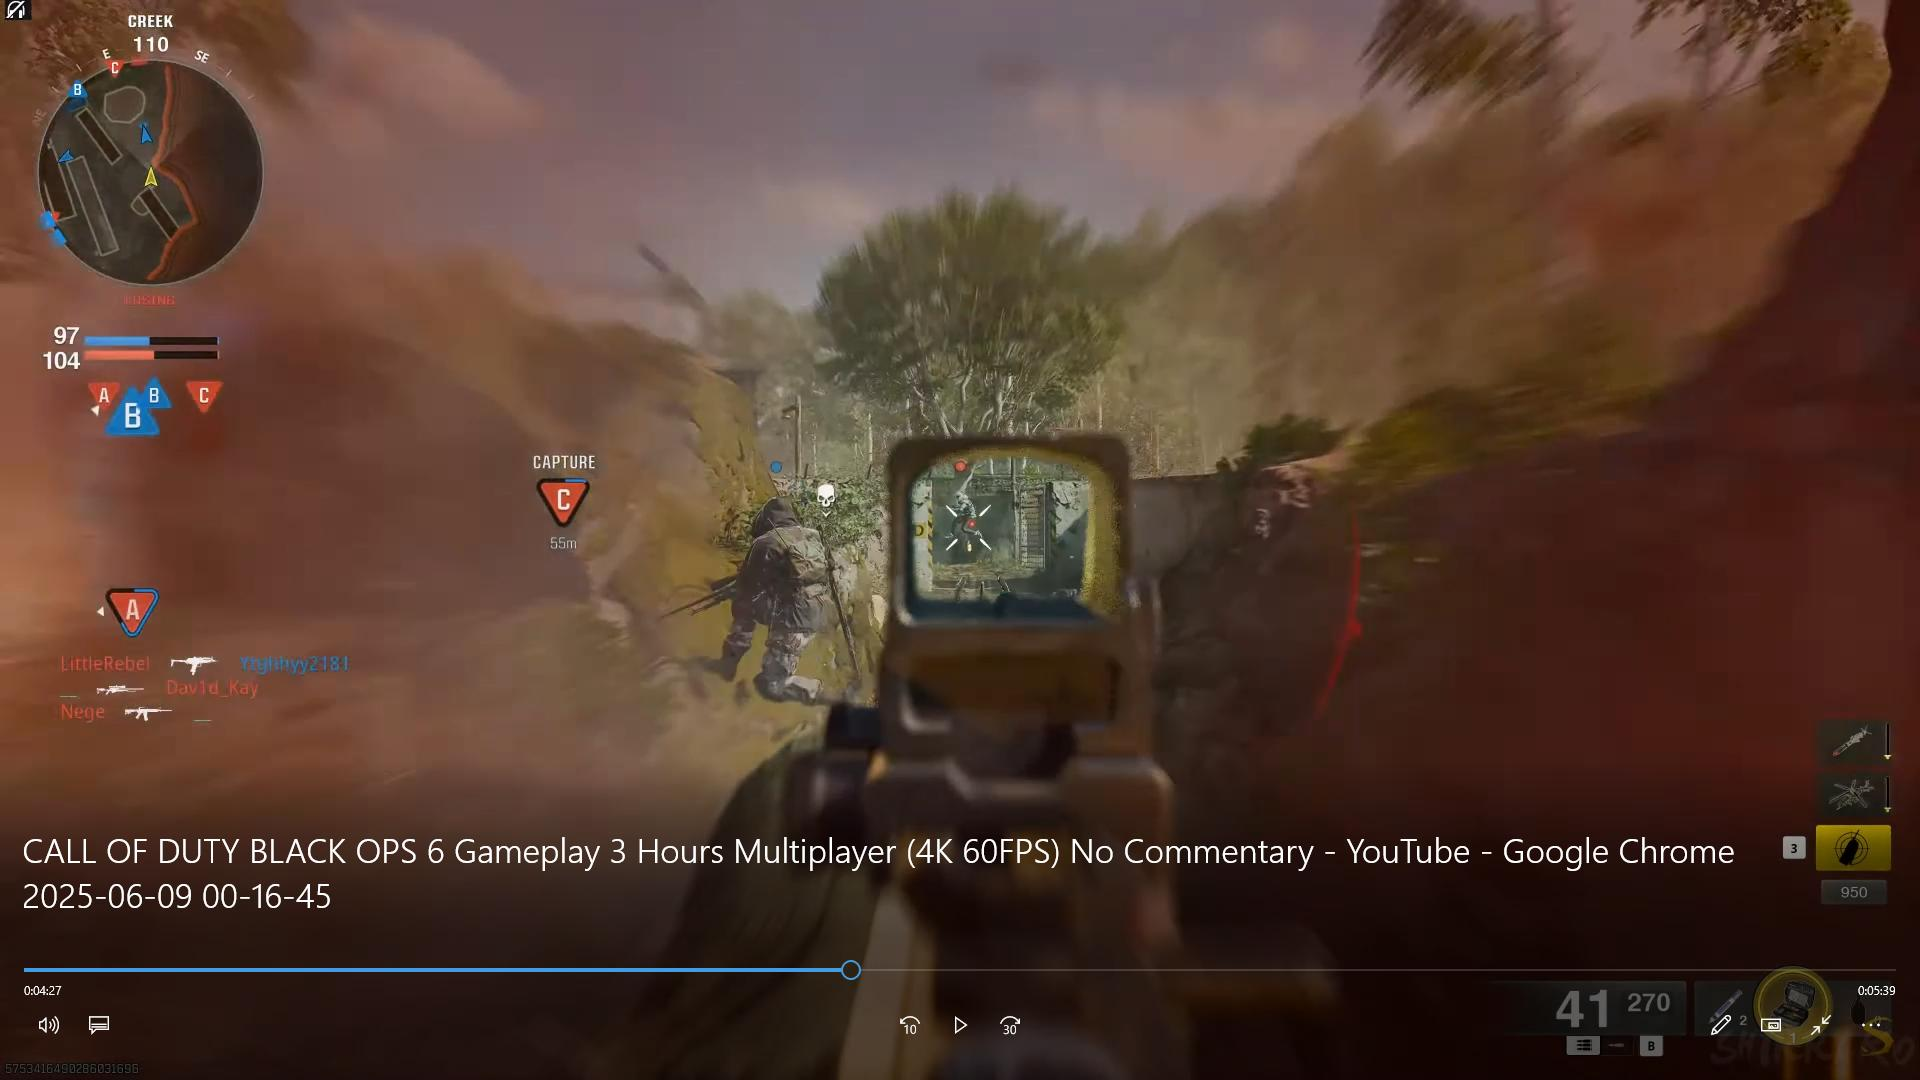Enemy: (709, 497, 837, 708), (940, 487, 988, 568)
